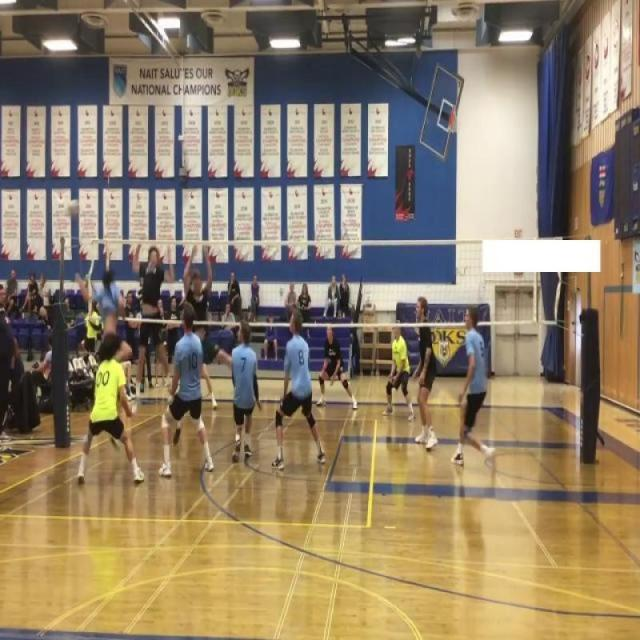volleyball: (64, 197, 82, 216)
